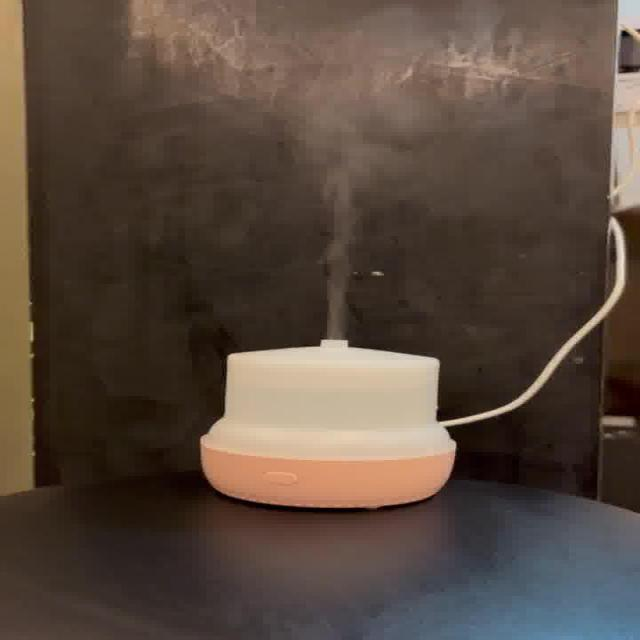fire: (322, 85, 444, 335)
